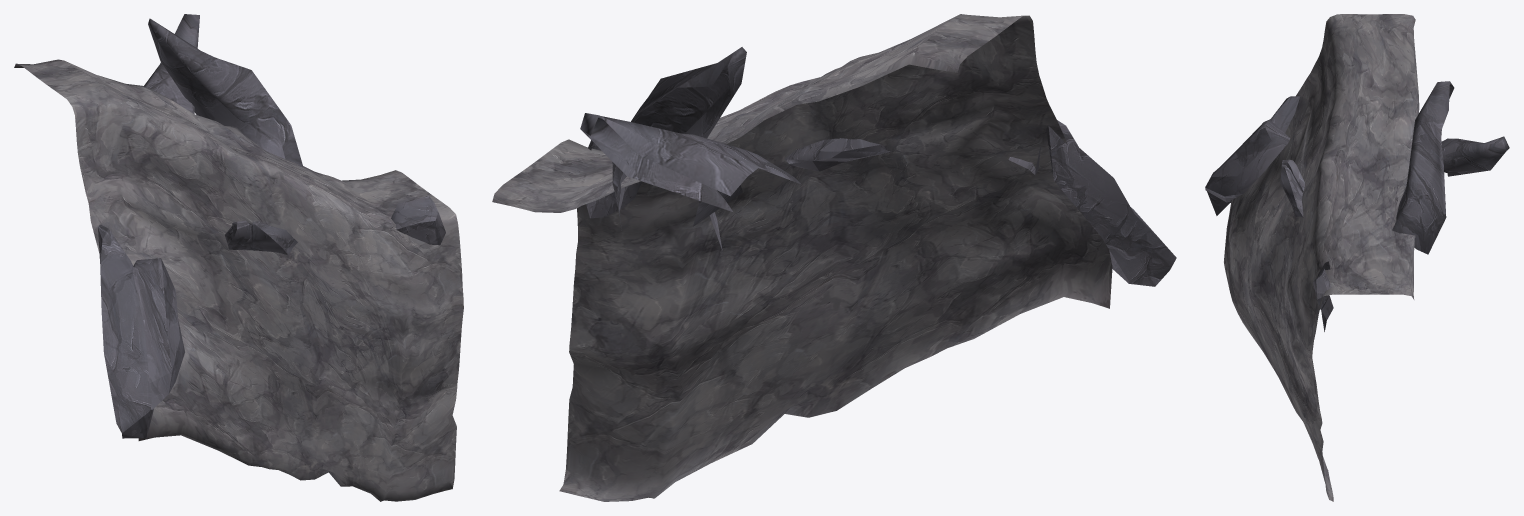
Rendered from Ground Slope (down) 1.fbx.
The picture shows the model from 3 angles, left to right: view 1: azimuth 30°, elevation 25°; view 2: azimuth 150°, elevation 25°; view 3: azimuth 270°, elevation 25°; orthographic projection. The views are drawn at different scales.
Visible parts, largest first — view 1: GroundSlopeDown1; view 2: GroundSlopeDown1; view 3: GroundSlopeDown1.
Boxes of the visible parts, x1,y1,x2,y2 form: GroundSlopeDown1: [14, 14, 463, 501]; GroundSlopeDown1: [492, 14, 1176, 501]; GroundSlopeDown1: [1205, 14, 1509, 501].
Bounding box in the file's own units: 11.02 × 12.16 × 9.52.
Materials: 4 (4 with a texture image).
